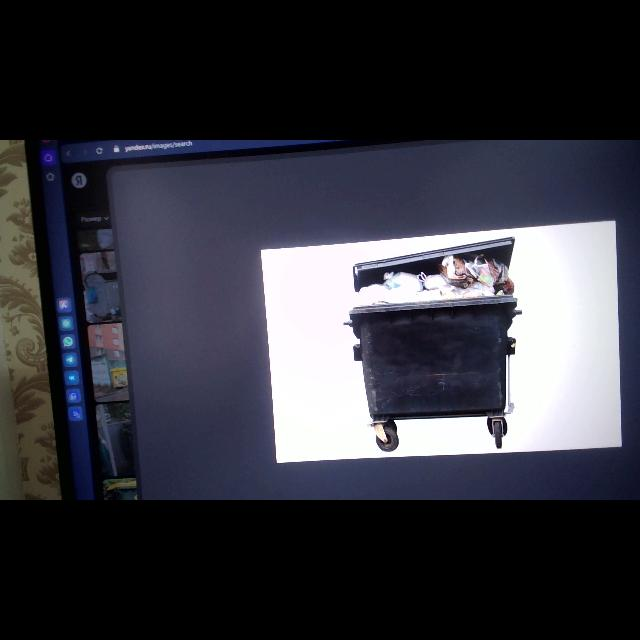Trash_Can_Full: (351, 252, 519, 417)
